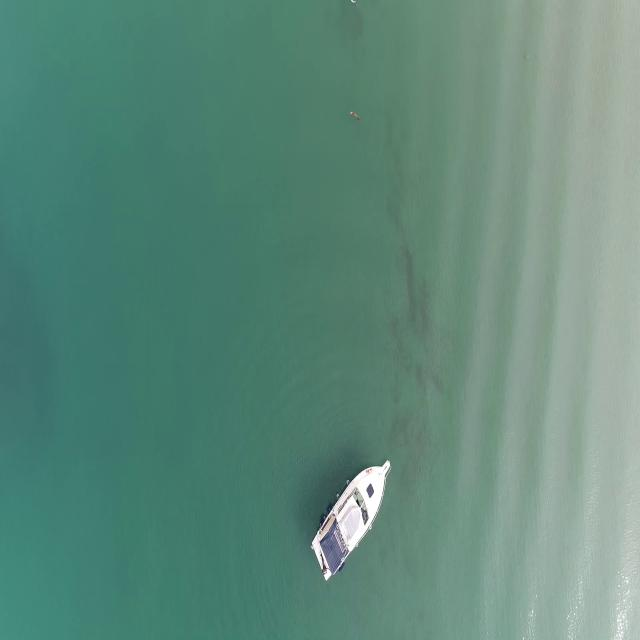boat: (312, 454, 391, 587)
wood: (349, 108, 362, 122)
